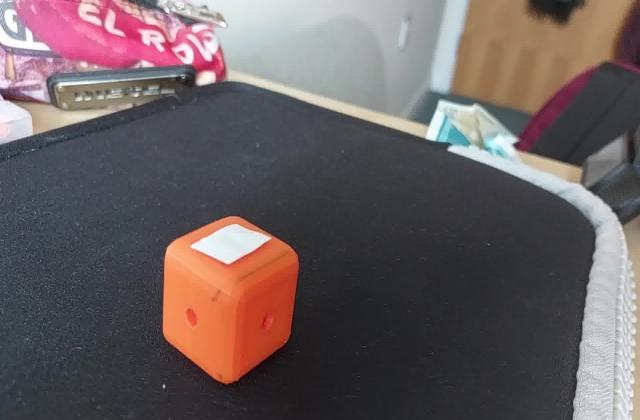cube: (156, 210, 300, 387)
white: (196, 229, 262, 272)
